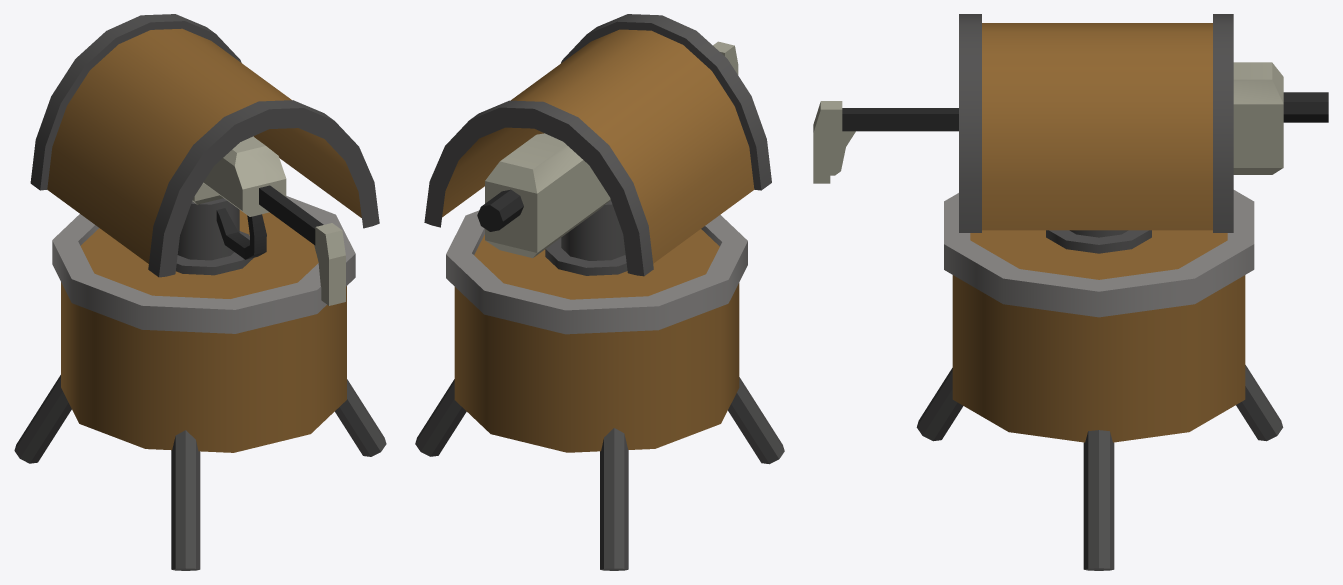
Rendered from Turret1.fbx.
The picture shows the model from 3 angles, left to right: view 1: azimuth 30°, elevation 25°; view 2: azimuth 150°, elevation 25°; view 3: azimuth 270°, elevation 25°; orthographic projection. The views are drawn at different scales.
Visible parts, largest first — view 1: Turret_1, Gun; view 2: Turret_1, Gun; view 3: Gun, Turret_1.
Part boxes in pixels (bbox=[...]): Turret_1: bbox=[14, 196, 386, 570]; Gun: bbox=[30, 14, 379, 305]; Turret_1: bbox=[415, 210, 784, 570]; Gun: bbox=[424, 14, 771, 276]; Gun: bbox=[813, 14, 1328, 253]; Turret_1: bbox=[916, 190, 1283, 570].
Size of the model in its own units: 50.23 by 66.5 by 67.03.
